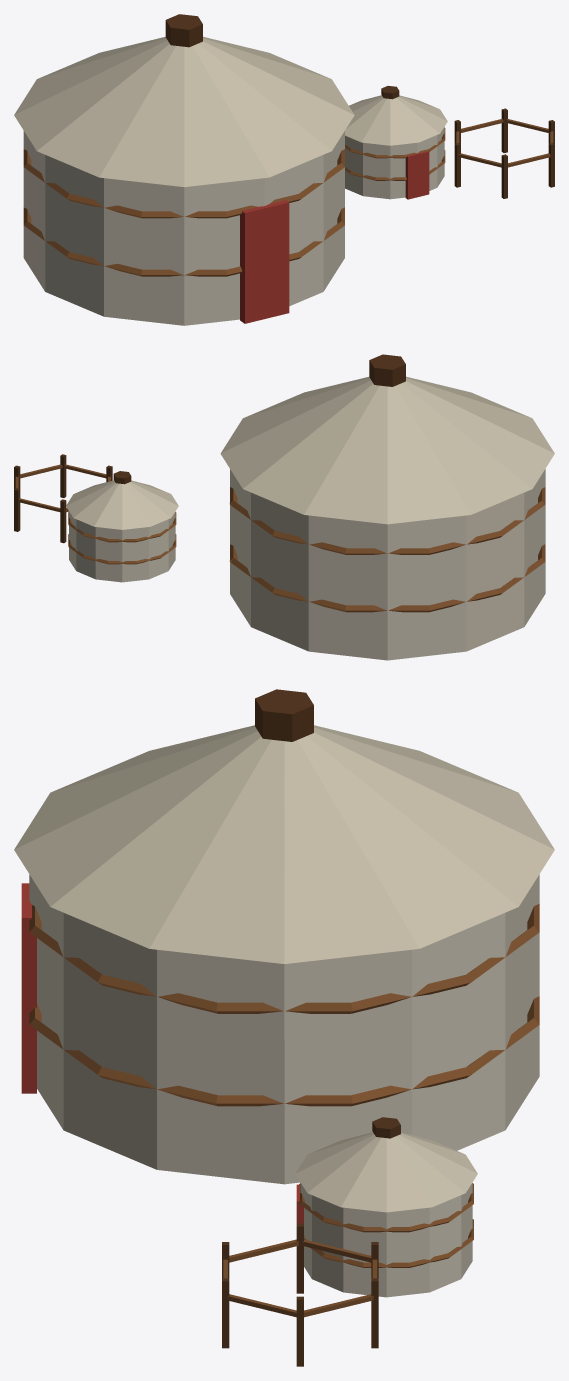
File: orc_hall_broken.glb
The picture shows the model from 3 angles, top to bottom: view 1: azimuth 30°, elevation 25°; view 2: azimuth 150°, elevation 25°; view 3: azimuth 270°, elevation 25°; orthographic projection. The views are drawn at different scales.
Visible parts, largest first — view 1: orc_hall_piece3, orc_hall_piece5, orc_hall_piece8, orc_hall_piece10, orc_hall_piece7, orc_hall_piece4, orc_hall_piece12, orc_hall_piece13, orc_hall_piece1; view 2: orc_hall_piece4, orc_hall_piece8, orc_hall_piece2, orc_hall_piece5, orc_hall_piece1, orc_hall_piece9, orc_hall_piece12, orc_hall_piece10, orc_hall_piece7; view 3: orc_hall_piece1, orc_hall_piece7, orc_hall_piece2, orc_hall_piece3, orc_hall_piece4, orc_hall_piece10, orc_hall_piece9, orc_hall_piece13, orc_hall_piece12, orc_hall_piece5, orc_hall_piece11.
Boxes of the visible parts, box(x1,y1,x2,y2) form: orc_hall_piece3: box(82, 51, 335, 325); orc_hall_piece5: box(44, 50, 228, 296); orc_hall_piece8: box(14, 68, 102, 307); orc_hall_piece10: box(345, 100, 554, 199); orc_hall_piece7: box(278, 58, 383, 178); orc_hall_piece4: box(27, 14, 228, 94); orc_hall_piece12: box(347, 86, 426, 142); orc_hall_piece13: box(298, 166, 344, 302); orc_hall_piece1: box(223, 41, 368, 196); orc_hall_piece4: box(276, 354, 425, 643); orc_hall_piece8: box(382, 444, 545, 658); orc_hall_piece2: box(230, 545, 395, 660); orc_hall_piece5: box(406, 376, 554, 575); orc_hall_piece1: box(108, 380, 354, 582); orc_hall_piece9: box(231, 379, 361, 567); orc_hall_piece12: box(68, 471, 170, 547); orc_hall_piece10: box(14, 454, 176, 580); orc_hall_piece7: box(151, 384, 337, 538); orc_hall_piece1: box(179, 804, 510, 1106); orc_hall_piece7: box(44, 854, 389, 1149); orc_hall_piece2: box(130, 932, 539, 1184); orc_hall_piece3: box(14, 775, 257, 1106); orc_hall_piece4: box(212, 689, 554, 910); orc_hall_piece10: box(222, 1150, 473, 1366); orc_hall_piece9: box(227, 776, 539, 1078); orc_hall_piece13: box(49, 973, 135, 1160); orc_hall_piece12: box(316, 1117, 477, 1202); orc_hall_piece5: box(39, 725, 363, 810); orc_hall_piece11: box(121, 998, 199, 1088).
Size of the model in its own units: 5.44 by 2.35 by 3.07.
